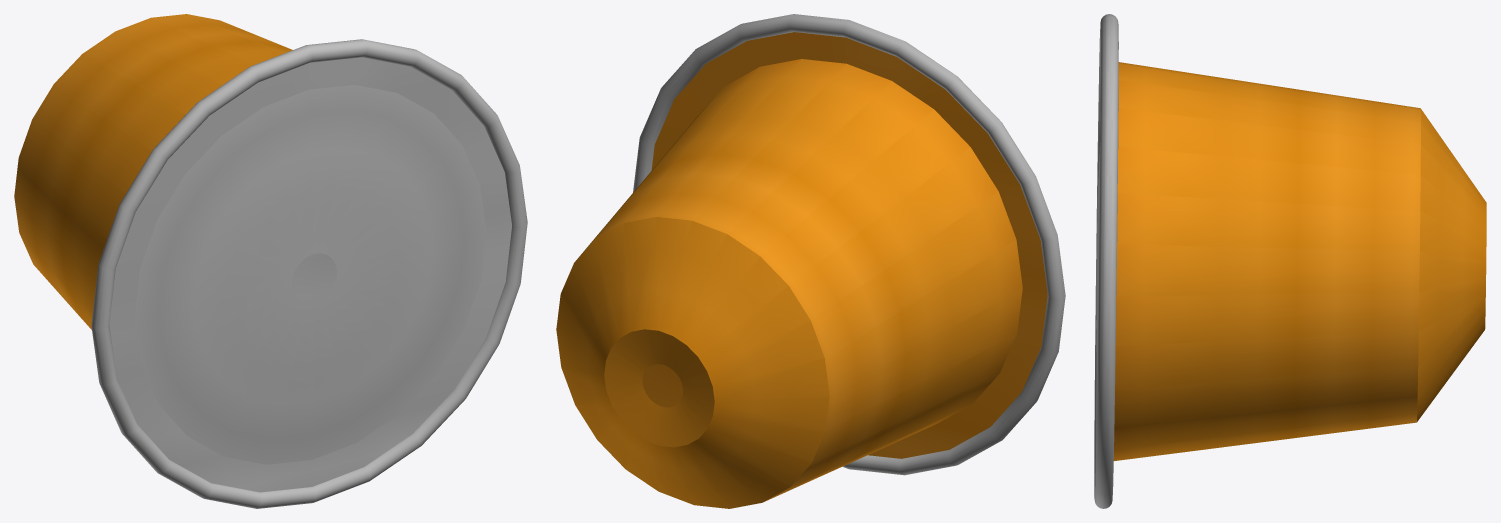
3 views of the same model, side by side, from view 1: azimuth 30°, elevation 25°; view 2: azimuth 150°, elevation 25°; view 3: azimuth 270°, elevation 25° (orthographic).
Parts seen in each view (by area): view 1: ID17, ID30, Capsule; view 2: Capsule, ID38, ID30; view 3: Capsule, ID30, ID17.
Boxes of the visible parts, left/top/right/bottom form: ID17: left=134, top=85, right=486, bottom=464; ID30: left=91, top=39, right=527, bottom=508; Capsule: left=14, top=14, right=292, bottom=329; Capsule: left=556, top=59, right=1022, bottom=508; ID38: left=651, top=32, right=1047, bottom=458; ID30: left=633, top=14, right=1065, bottom=475; Capsule: left=1113, top=62, right=1486, bottom=460; ID30: left=1094, top=14, right=1118, bottom=508; ID17: left=1096, top=142, right=1100, bottom=379.
Bounding box in the file's own units: 0.0289 × 0.0289 × 0.0228.
Materials: 2 (2 with a texture image).
